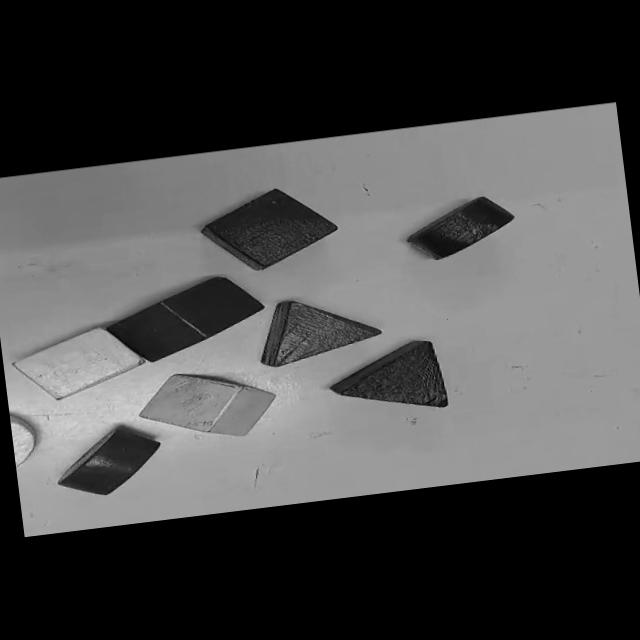bcircle: (407, 196, 512, 259)
bcube: (201, 188, 337, 269)
btriangle: (330, 340, 447, 406)
rcircle: (56, 427, 158, 494)
rcube: (107, 276, 263, 361)
rtriangle: (260, 300, 379, 366)
ycube: (11, 327, 144, 398)
ytriangle: (139, 373, 274, 436)
